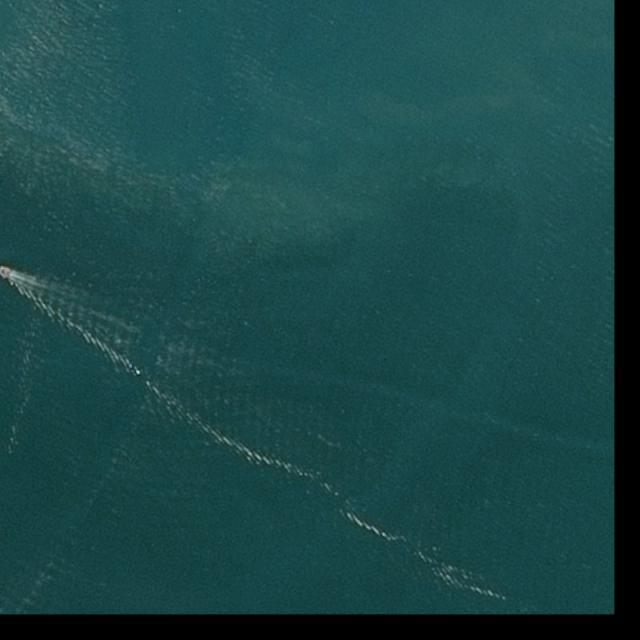ship: (0, 267, 10, 277)
